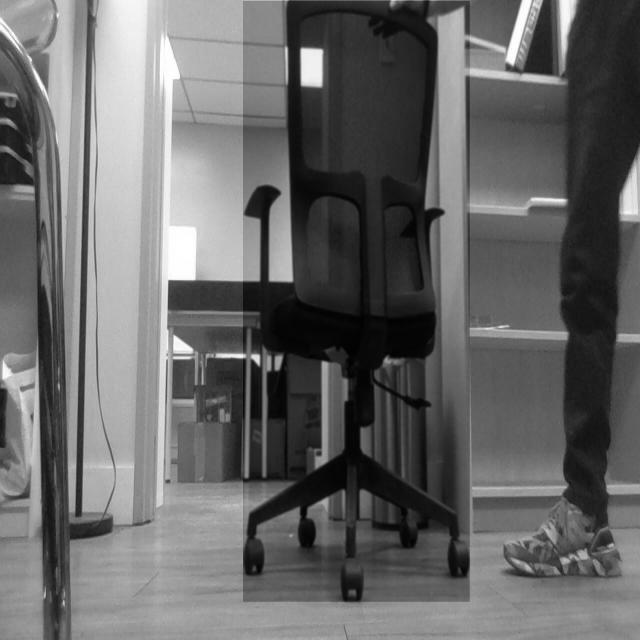chair: (243, 1, 471, 603)
